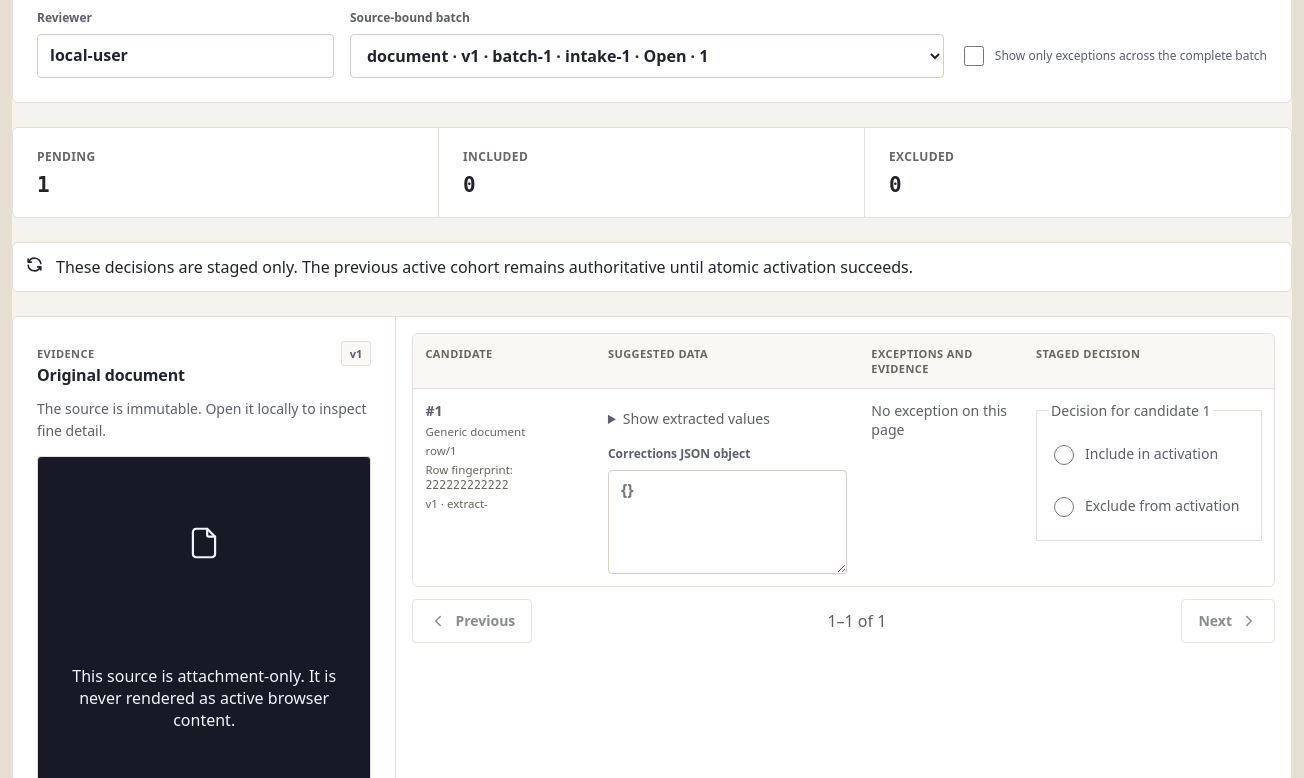
it: GroupedReviewWorkspace › restores the stale decision notice and affected draft after the forced reload
Click the radio button labelled "Include in activation": (1064, 455) [1054, 445, 1074, 465]
(page scrolled)
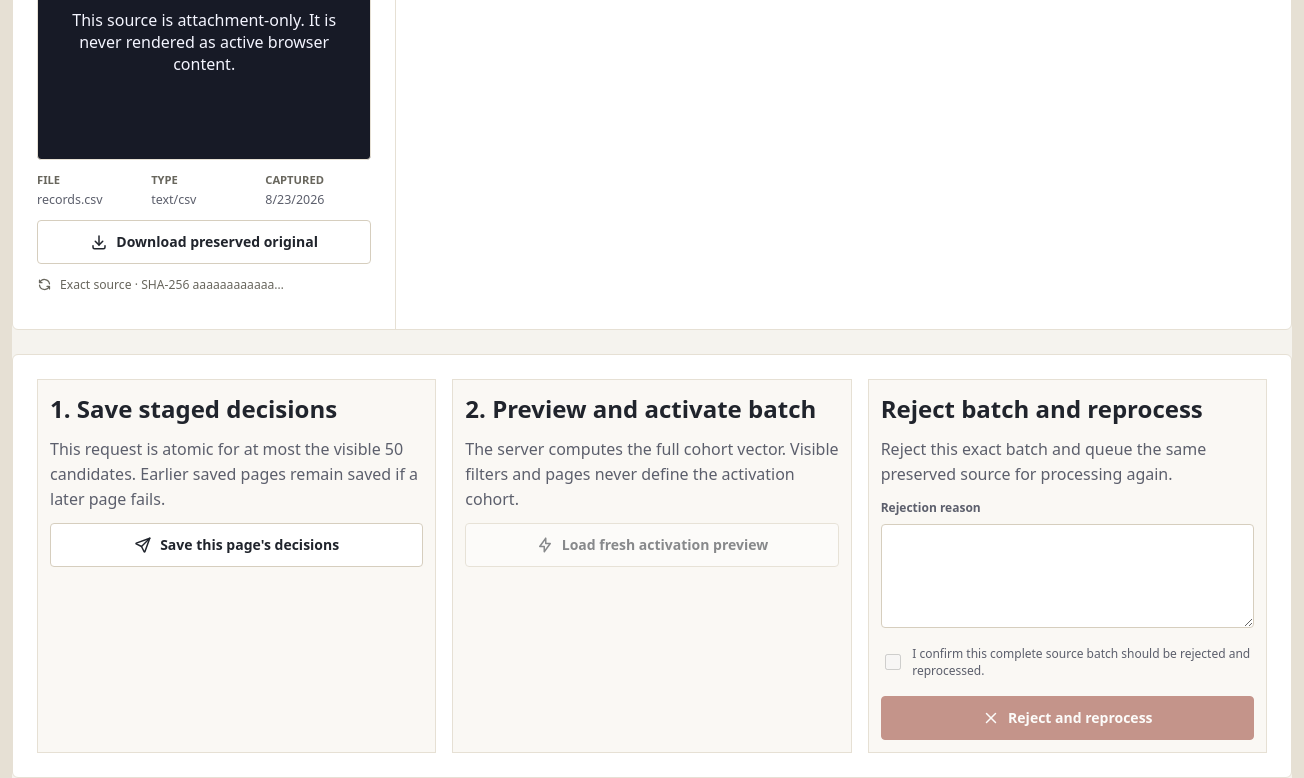
Click the button "Save this page's decisions": (237, 545) [50, 523, 423, 567]
(page scrolled)
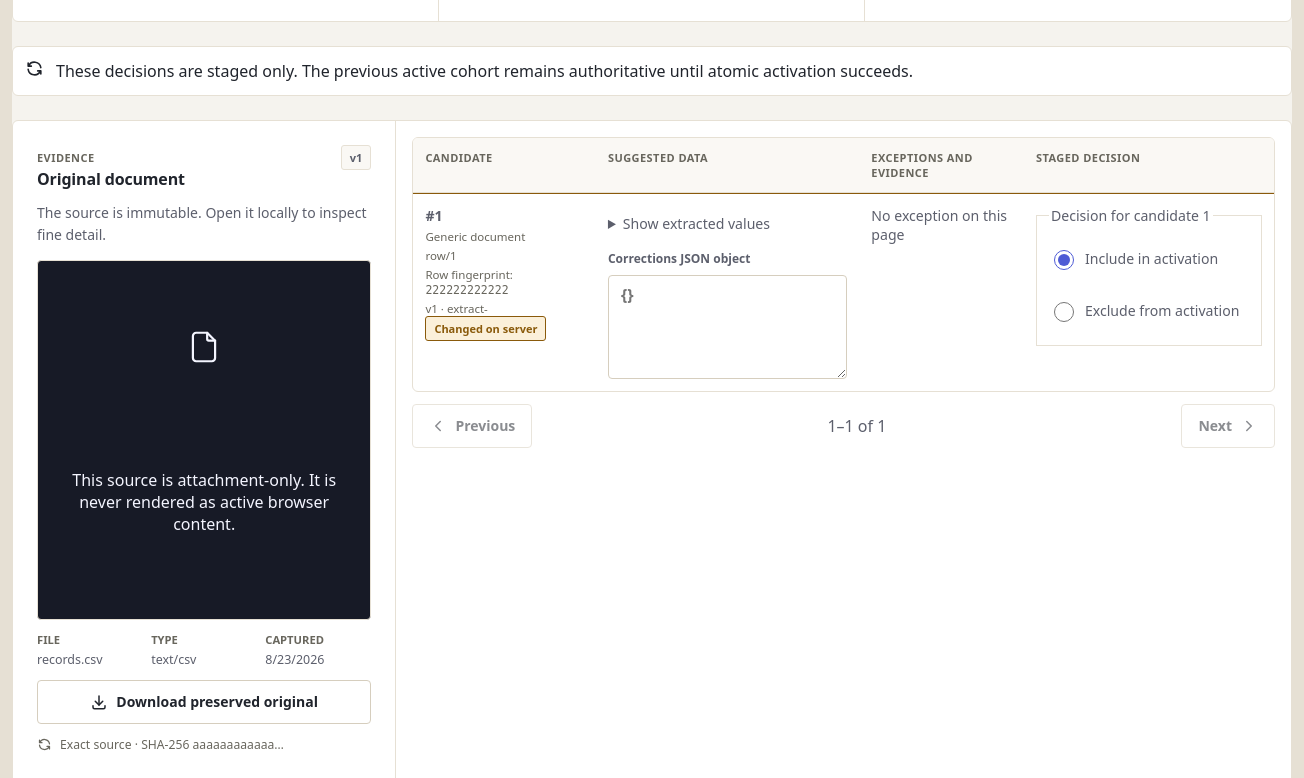
Now the radio button labelled "Include in activation" is checked, box [1054, 250, 1074, 270]
Now the text "Changed on server" is shown, box [425, 316, 546, 341]
